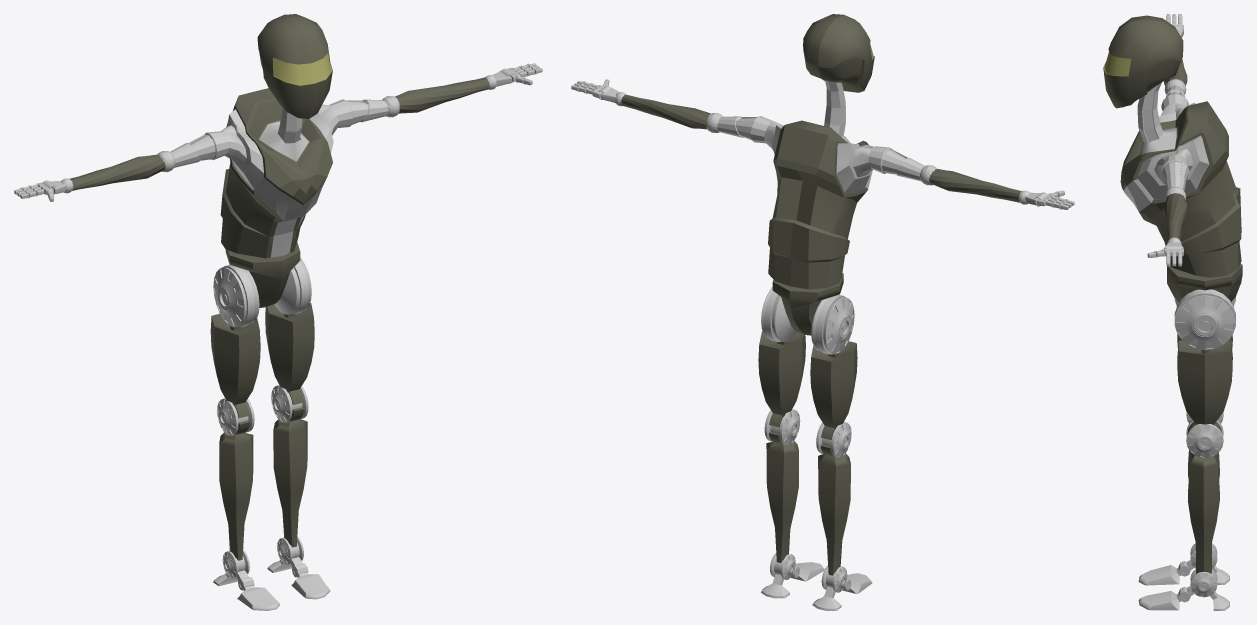
The model's file is thin.obj.
3 views of the same model, side by side, from view 1: azimuth 30°, elevation 25°; view 2: azimuth 150°, elevation 25°; view 3: azimuth 270°, elevation 25° (orthographic). The views are drawn at different scales.
Parts seen in each view (by area): view 1: er1:leave_cor:robot_2:polySurface16 Master_Robot_Ctrl Robot, Master_Robot_Ctrl Robot er1:leave_cor:robot_2:polySurface17, er1:leave_cor:robot_2:polySurface2, er1:leave_cor:robot_2:polySurface1, er1:leave_cor:robot_2:polySurface3, er1:leave_cor:robot_2:polySurface4, er1:leave_cor:robot_2:pCylinder19, er1:leave_cor:robot_2:polySurface8, er1:leave_cor:robot_2:polySurface7, er1:leave_cor:robot_2:pCylinder15, er1:leave_cor:robot_2:pCylinder9, er1:leave_cor:robot_2:polySurface6 er1:leave_cor:robot_2:toeWigg (+1 smaller); view 2: er1:leave_cor:robot_2:polySurface16 Master_Robot_Ctrl Robot, Master_Robot_Ctrl Robot er1:leave_cor:robot_2:polySurface17, er1:leave_cor:robot_2:polySurface2, er1:leave_cor:robot_2:polySurface1, er1:leave_cor:robot_2:polySurface4, er1:leave_cor:robot_2:polySurface3, er1:leave_cor:robot_2:pCylinder19, er1:leave_cor:robot_2:polySurface8, er1:leave_cor:robot_2:polySurface7, er1:leave_cor:robot_2:pCylinder15, er1:leave_cor:robot_2:pCylinder9; view 3: er1:leave_cor:robot_2:polySurface16 Master_Robot_Ctrl Robot, Master_Robot_Ctrl Robot er1:leave_cor:robot_2:polySurface17, er1:leave_cor:robot_2:polySurface1, er1:leave_cor:robot_2:polySurface3, er1:leave_cor:robot_2:polySurface7, er1:leave_cor:robot_2:pCylinder9, er1:leave_cor:robot_2:pCylinder19, er1:leave_cor:robot_2:polySurface5 er1:leave_cor:robot_2:toeWiig, er1:leave_cor:robot_2:polySurface6 er1:leave_cor:robot_2:toeWigg, er1:leave_cor:robot_2:pCylinder10, er1:leave_cor:robot_2:pCylinder5, er1:leave_cor:robot_2:pSphere1 (+2 smaller).
Part boxes in pixels (left/top/right/bottom): er1:leave_cor:robot_2:polySurface16 Master_Robot_Ctrl Robot: left=170, top=88, right=388, bottom=307; Master_Robot_Ctrl Robot er1:leave_cor:robot_2:polySurface17: left=257, top=14, right=332, bottom=143; er1:leave_cor:robot_2:polySurface2: left=210, top=313, right=260, bottom=418; er1:leave_cor:robot_2:polySurface1: left=265, top=303, right=314, bottom=404; er1:leave_cor:robot_2:polySurface3: left=273, top=407, right=307, bottom=547; er1:leave_cor:robot_2:polySurface4: left=219, top=420, right=253, bottom=560; er1:leave_cor:robot_2:pCylinder19: left=69, top=77, right=489, bottom=190; er1:leave_cor:robot_2:polySurface8: left=213, top=267, right=259, bottom=327; er1:leave_cor:robot_2:polySurface7: left=274, top=257, right=311, bottom=314; er1:leave_cor:robot_2:pCylinder15: left=217, top=398, right=254, bottom=435; er1:leave_cor:robot_2:pCylinder9: left=271, top=385, right=308, bottom=422; er1:leave_cor:robot_2:polySurface6 er1:leave_cor:robot_2:toeWigg: left=237, top=585, right=279, bottom=610; er1:leave_cor:robot_2:polySurface16 Master_Robot_Ctrl Robot: left=717, top=116, right=924, bottom=335; Master_Robot_Ctrl Robot er1:leave_cor:robot_2:polySurface17: left=803, top=14, right=874, bottom=136; er1:leave_cor:robot_2:polySurface2: left=810, top=341, right=857, bottom=439; er1:leave_cor:robot_2:polySurface1: left=758, top=331, right=805, bottom=427; er1:leave_cor:robot_2:polySurface4: left=818, top=444, right=850, bottom=575; er1:leave_cor:robot_2:polySurface3: left=766, top=431, right=798, bottom=562; er1:leave_cor:robot_2:pCylinder19: left=621, top=94, right=1021, bottom=202; er1:leave_cor:robot_2:polySurface8: left=811, top=297, right=854, bottom=354; er1:leave_cor:robot_2:polySurface7: left=761, top=287, right=796, bottom=342; er1:leave_cor:robot_2:pCylinder15: left=816, top=421, right=851, bottom=457; er1:leave_cor:robot_2:pCylinder9: left=764, top=409, right=800, bottom=445; er1:leave_cor:robot_2:polySurface16 Master_Robot_Ctrl Robot: left=1120, top=85, right=1242, bottom=302; Master_Robot_Ctrl Robot er1:leave_cor:robot_2:polySurface17: left=1103, top=15, right=1183, bottom=143; er1:leave_cor:robot_2:polySurface1: left=1177, top=340, right=1232, bottom=432; er1:leave_cor:robot_2:polySurface3: left=1188, top=453, right=1219, bottom=573; er1:leave_cor:robot_2:polySurface7: left=1175, top=289, right=1235, bottom=350; er1:leave_cor:robot_2:pCylinder9: left=1186, top=420, right=1223, bottom=457; er1:leave_cor:robot_2:pCylinder19: left=1163, top=59, right=1187, bottom=241; er1:leave_cor:robot_2:polySurface5 er1:leave_cor:robot_2:toeWiig: left=1138, top=591, right=1180, bottom=610; er1:leave_cor:robot_2:polySurface6 er1:leave_cor:robot_2:toeWigg: left=1138, top=565, right=1180, bottom=585; er1:leave_cor:robot_2:pCylinder10: left=1190, top=569, right=1217, bottom=597; er1:leave_cor:robot_2:pCylinder5: left=1174, top=290, right=1235, bottom=335; er1:leave_cor:robot_2:pSphere1: left=1164, top=79, right=1186, bottom=200.
Bounding box in the file's own units: 25.78 × 27.56 × 6.09.
